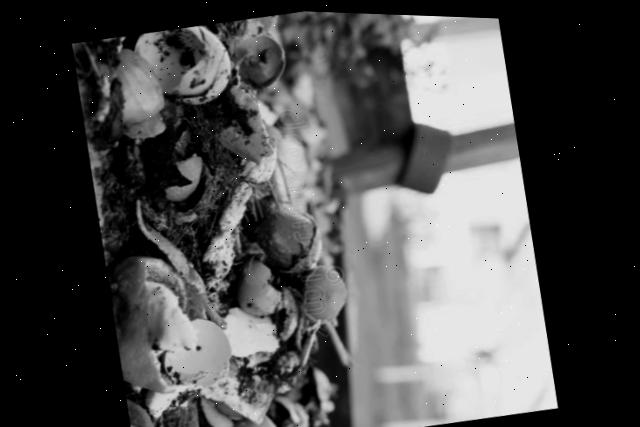Garbage: (73, 12, 351, 427)
contaminated_waste: (115, 43, 165, 123)
